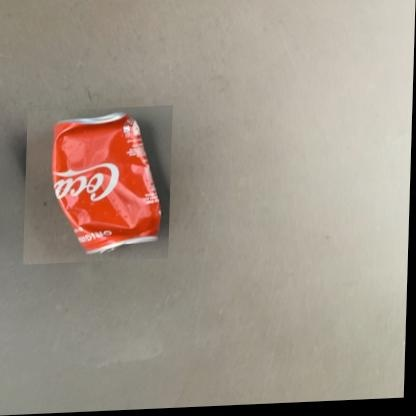trash: (52, 112, 160, 253)
